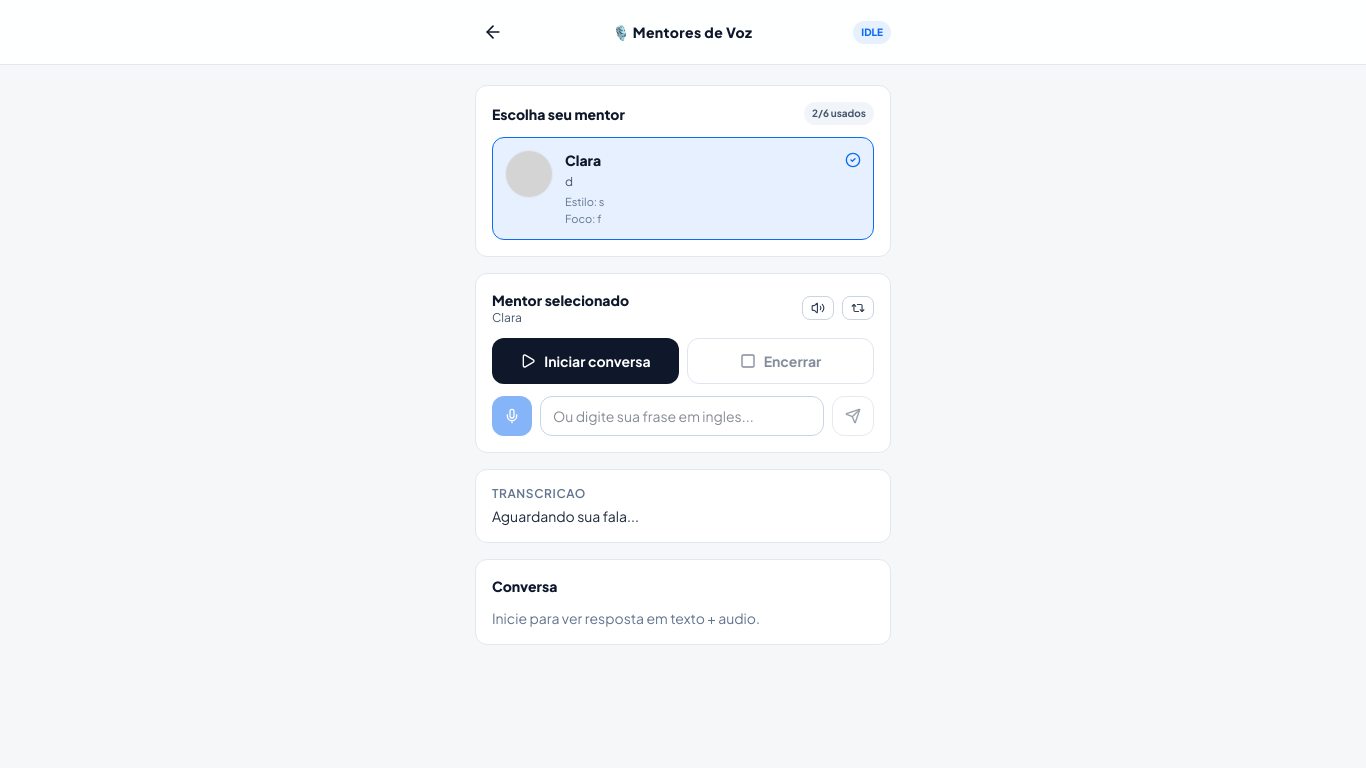
Test case: VoiceChatScreen › mostra contador FREE e permite trial de voz
Check: the text "2/6 usados" is shown, box [804,102,874,125]
Click the button "Iniciar conversa" at (586, 361), box [492,338,679,384]
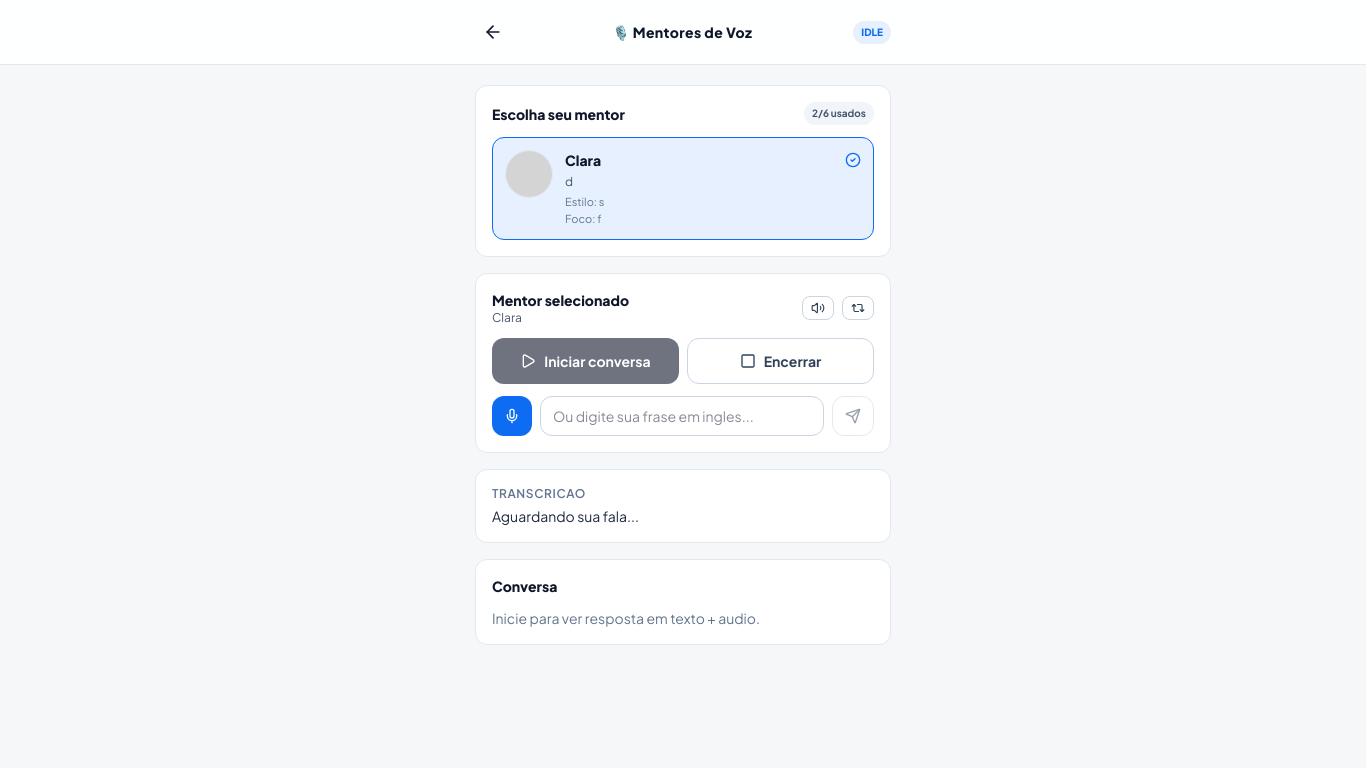
Type "hello" into the field with placeholder "Ou digite sua frase em ingles..." at (682, 416), box [540,396,824,436]
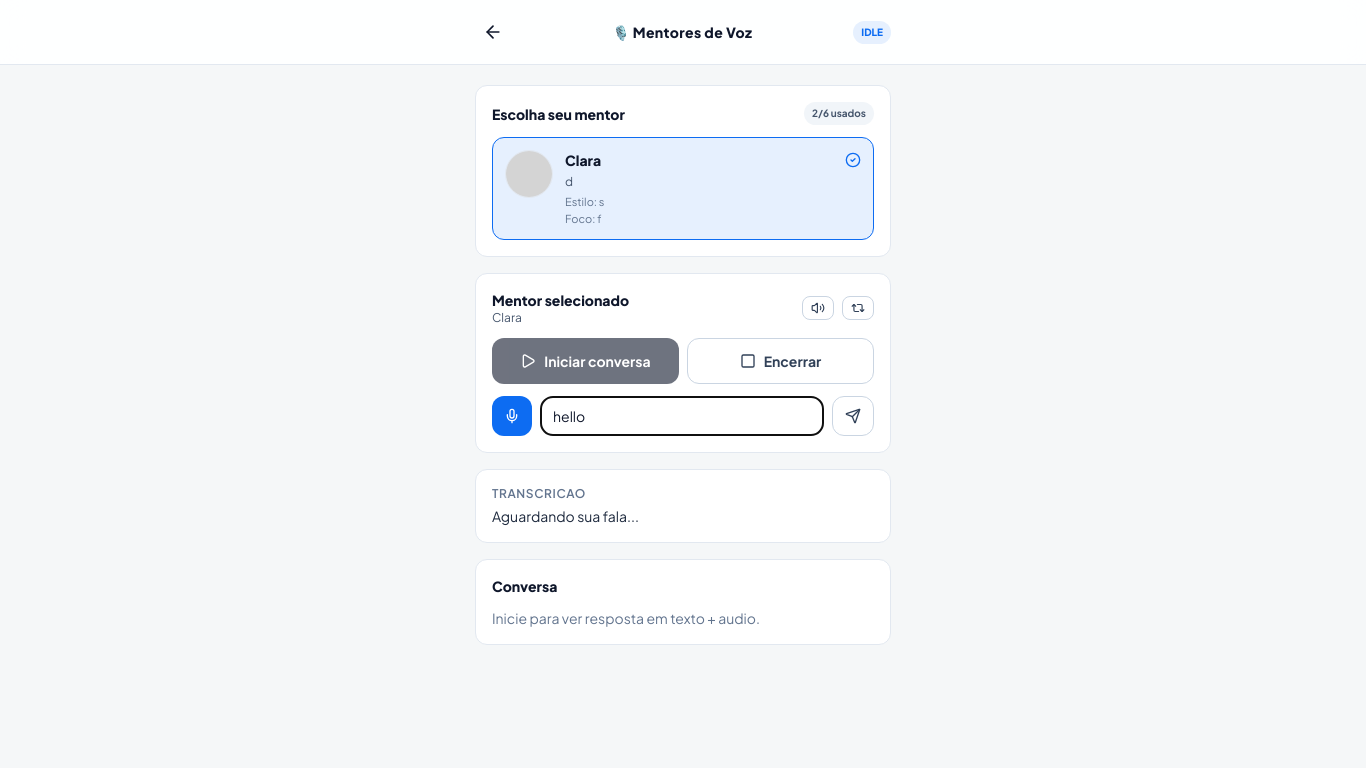
Click the button named "Enviar mensagem de voz" at (853, 416), box [832,396,874,436]
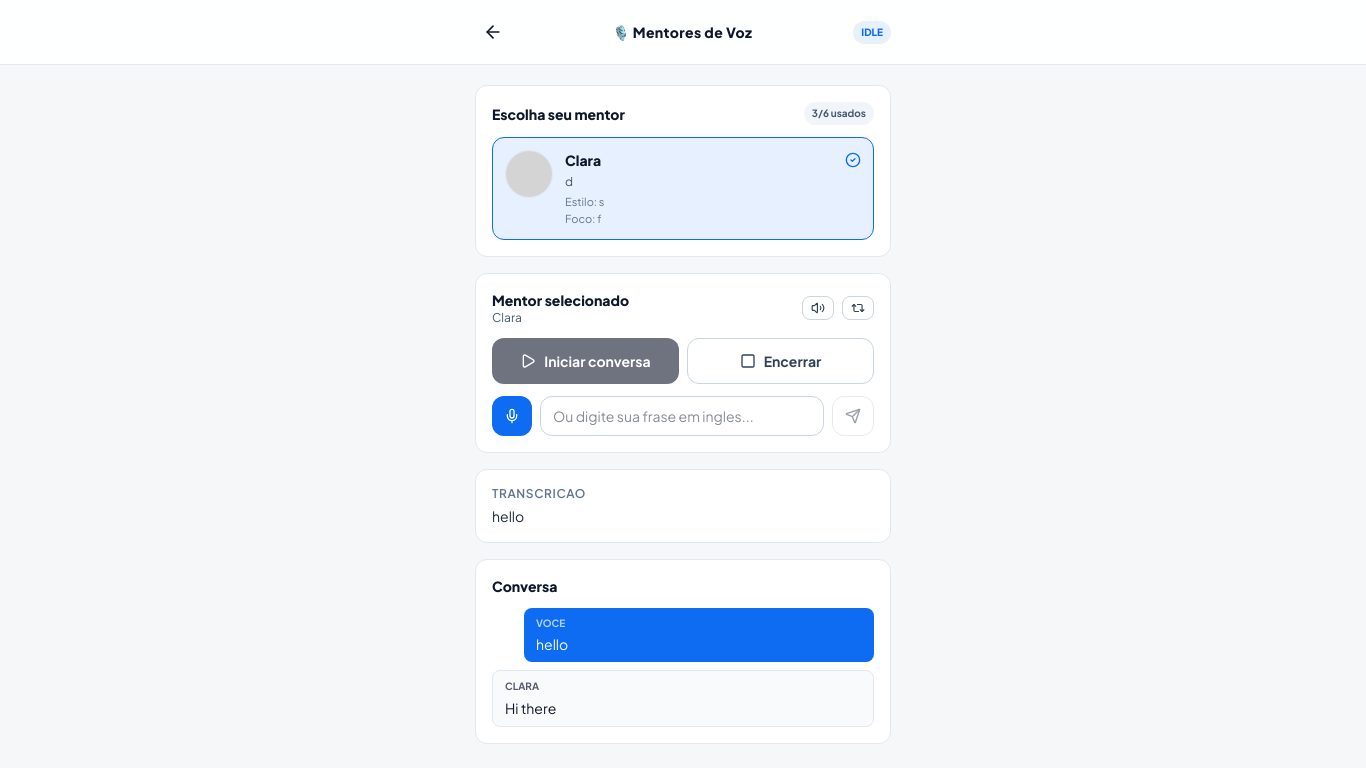
Check: the text "Hi there" is shown, box [505,699,556,717]
